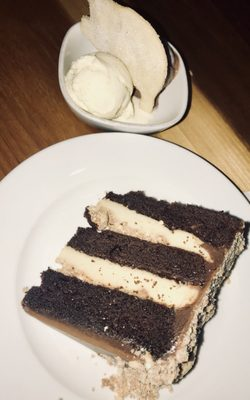sushi: (59, 1, 191, 135)
